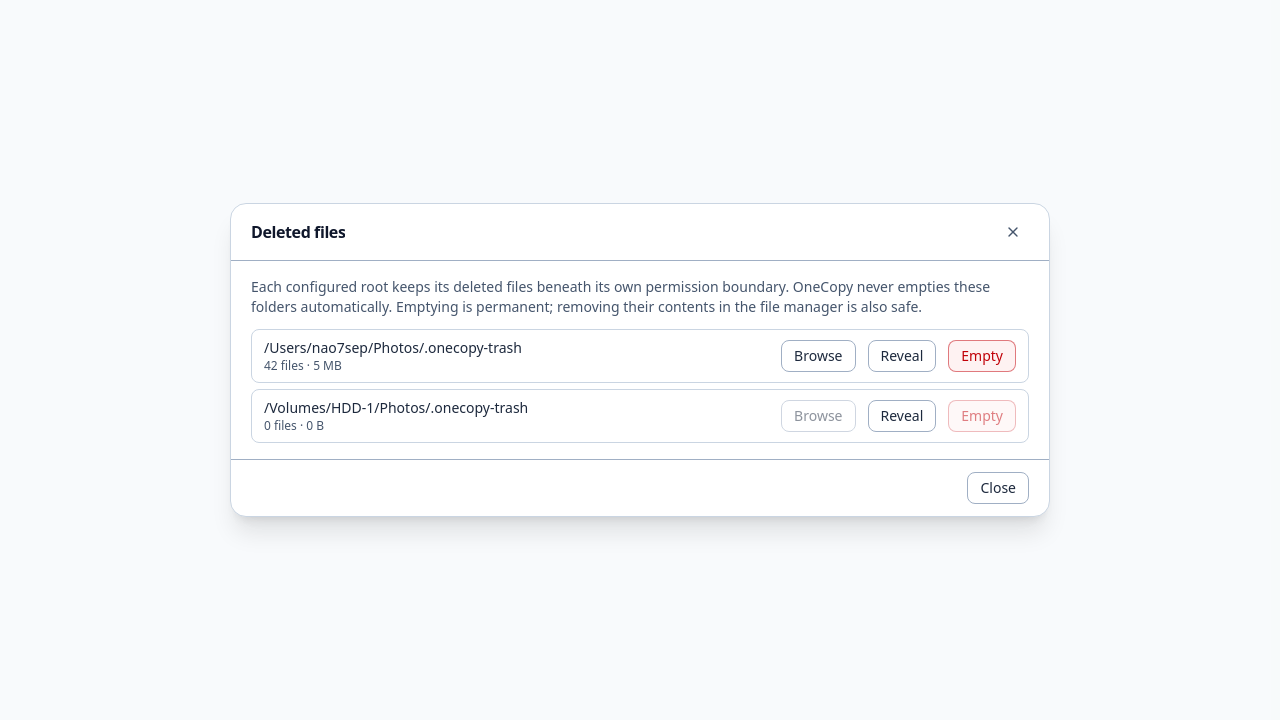
Scenario: the trash modal › says that emptying a synced location deletes from the cloud too
Click the button "Empty" in the row of "/Users/nao7sep/Photos" at (982, 356), box [948, 340, 1016, 372]
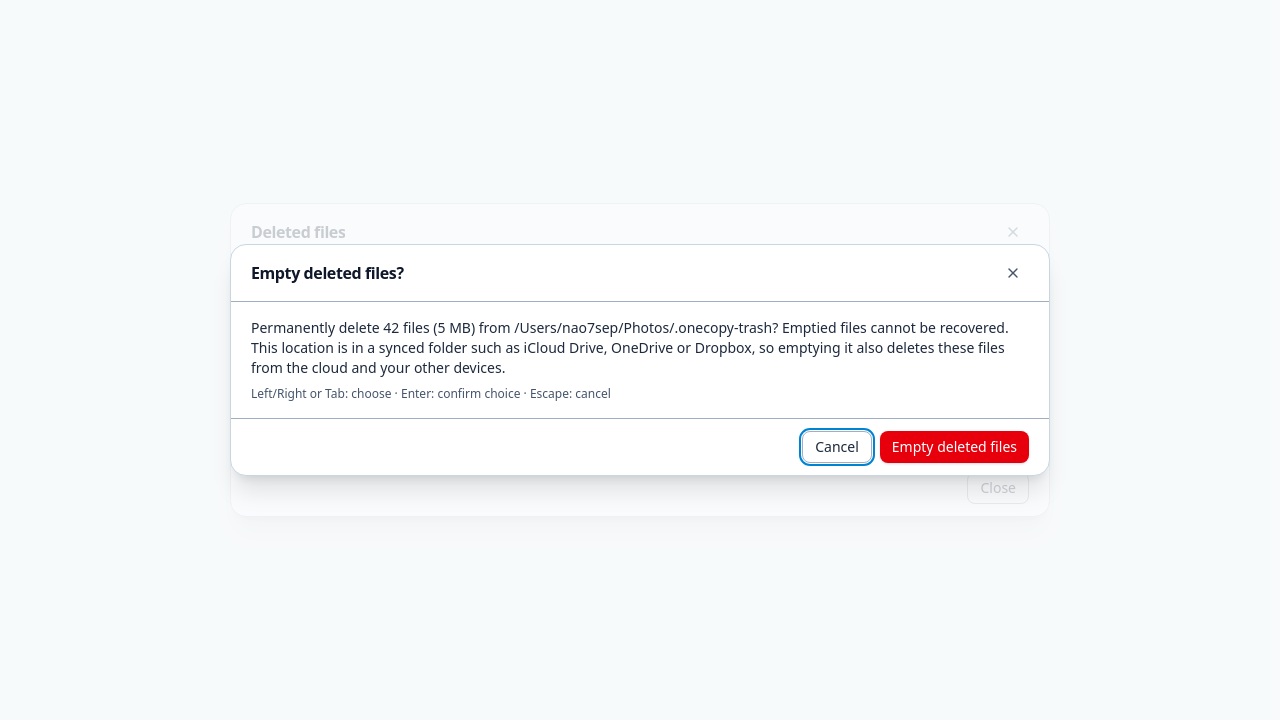
Now the text "also deletes these files from the cloud" is shown, box [251, 318, 1009, 377]
